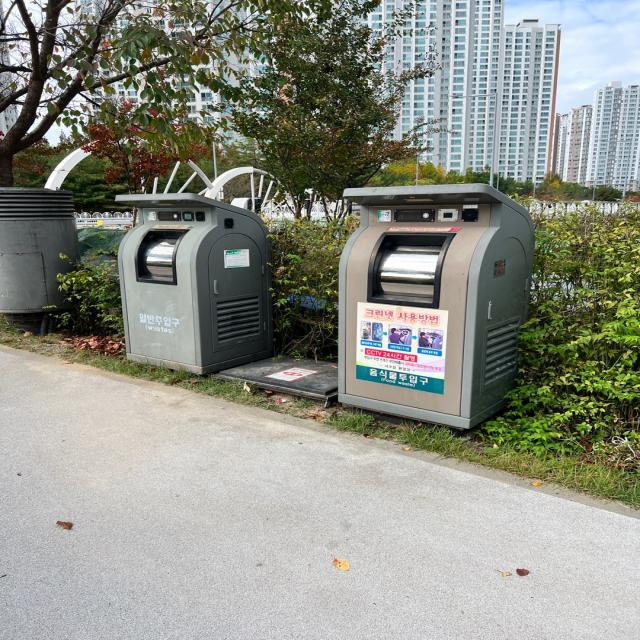CleanNet: (327, 176, 550, 447), (92, 183, 286, 378)
